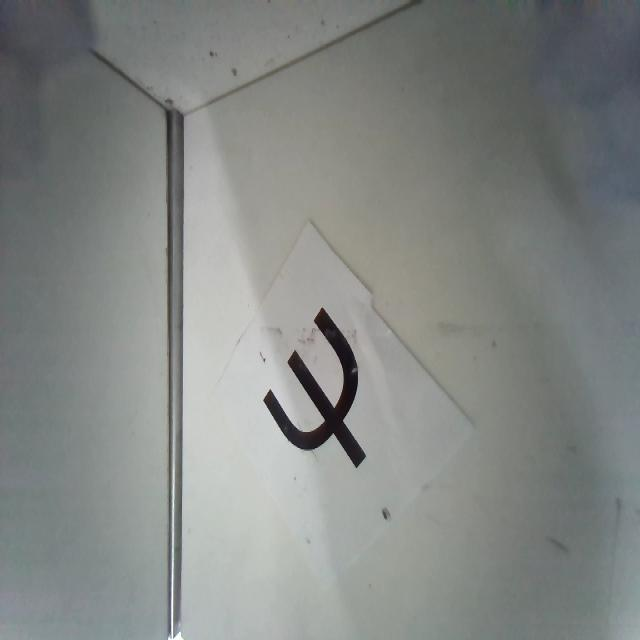nedoF: (261, 303, 367, 468)
